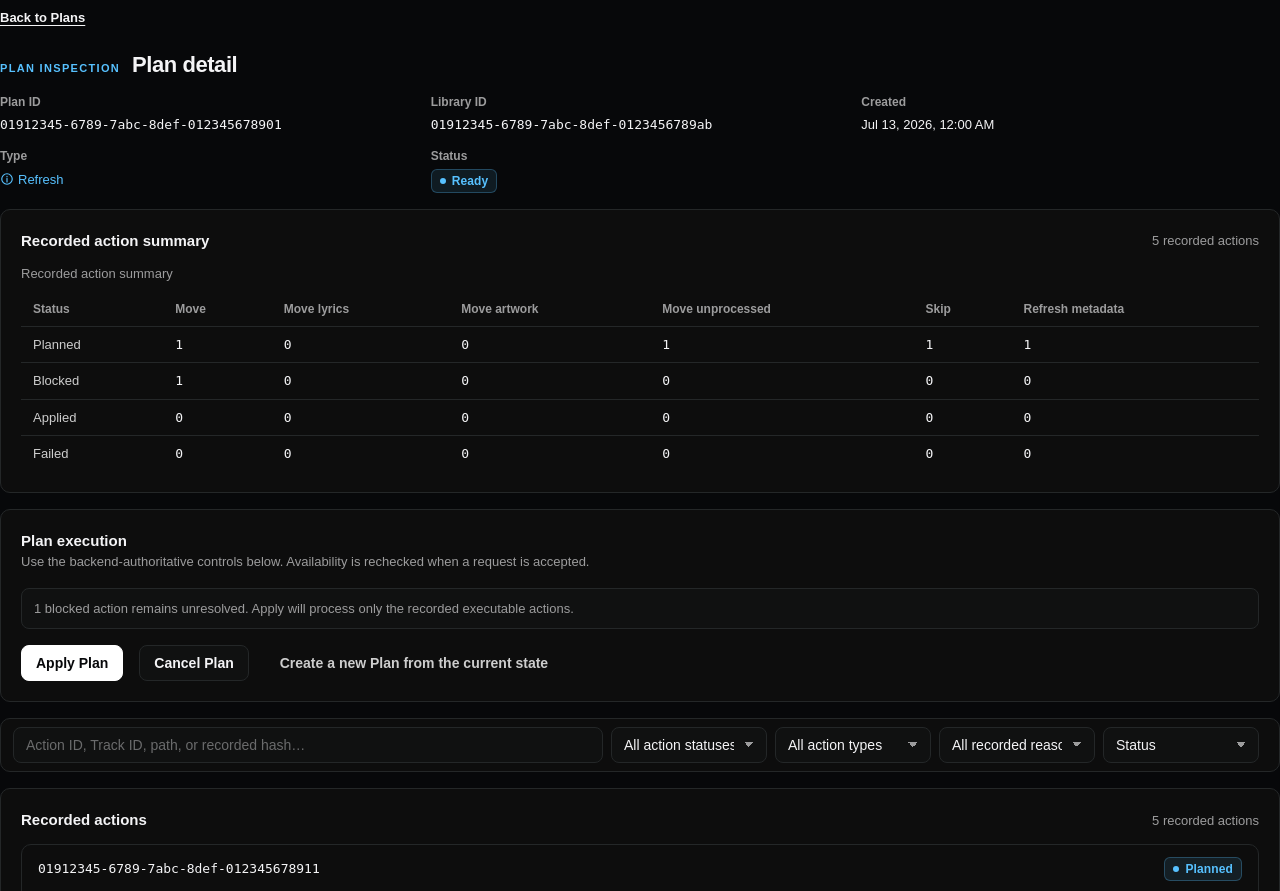
PlanDetail › does not retry a Cancel conflict and focuses its backend remediation
Step 1. Click the button "Cancel Plan" → (194, 663), box [139, 645, 249, 681]
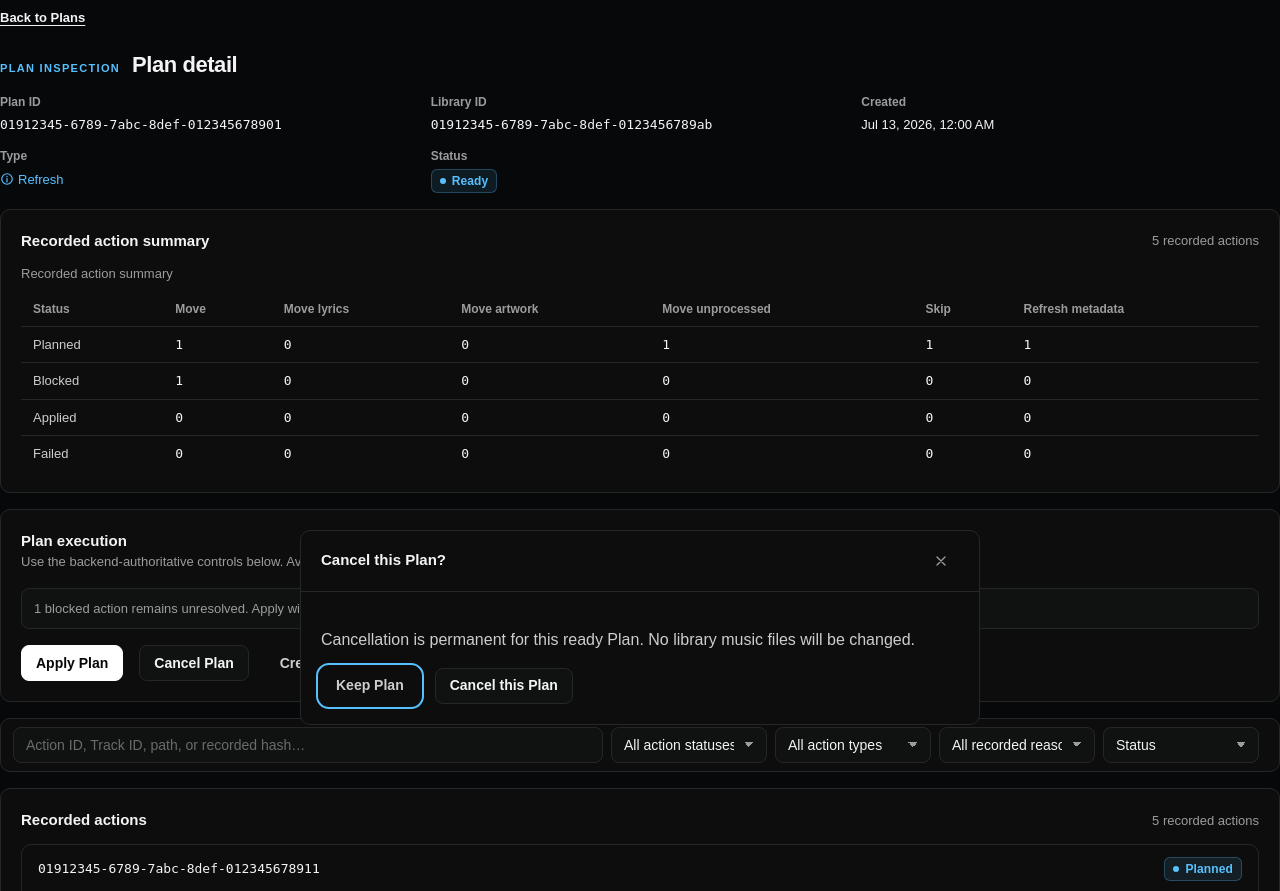
Step 2. Click the button "Cancel this Plan" → (504, 686), box [435, 668, 573, 704]
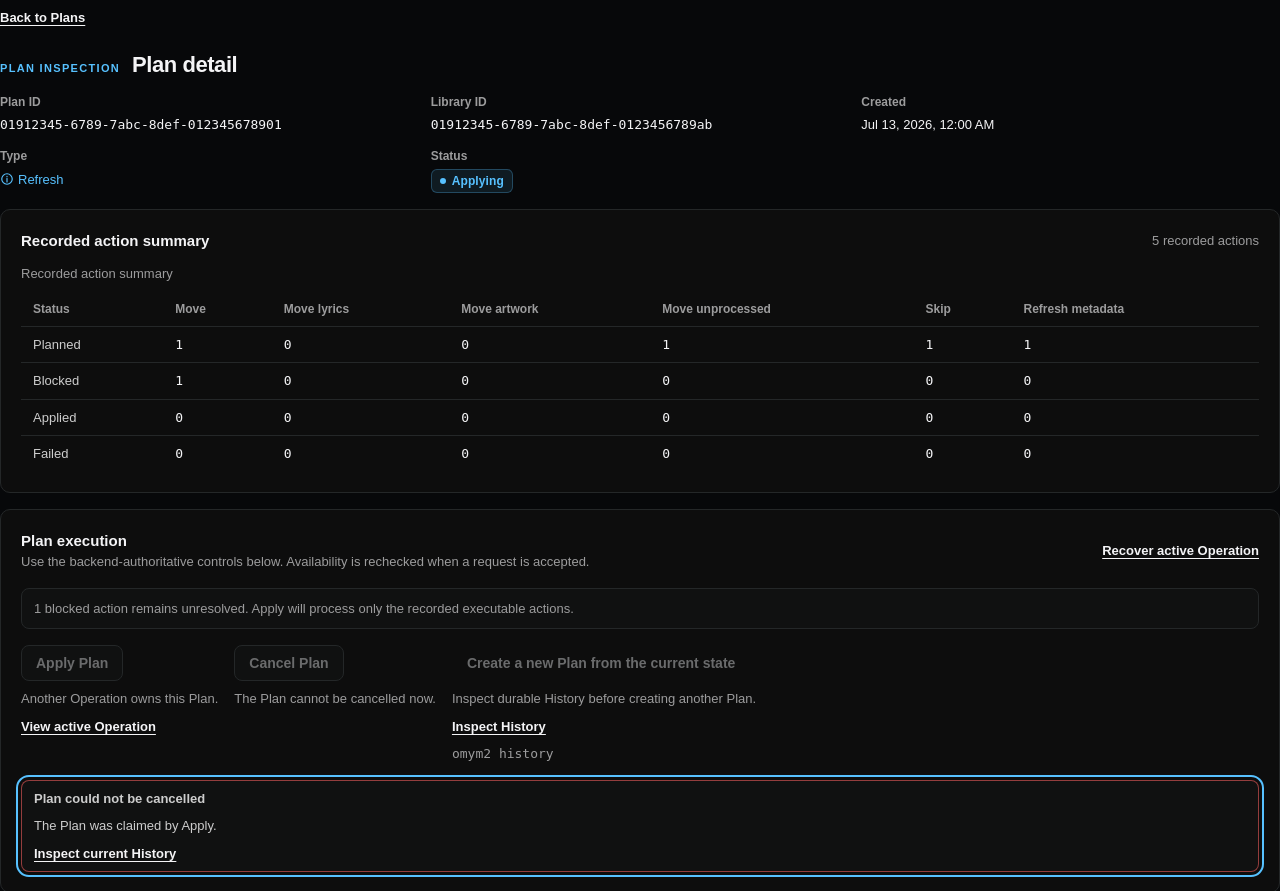
Now the message shows "The Plan was claimed by Apply.", box [34, 818, 217, 833]
Now the text "Applying" is shown, box [431, 169, 513, 193]
Now the button "Apply Plan" is disabled, box [21, 645, 123, 681]
